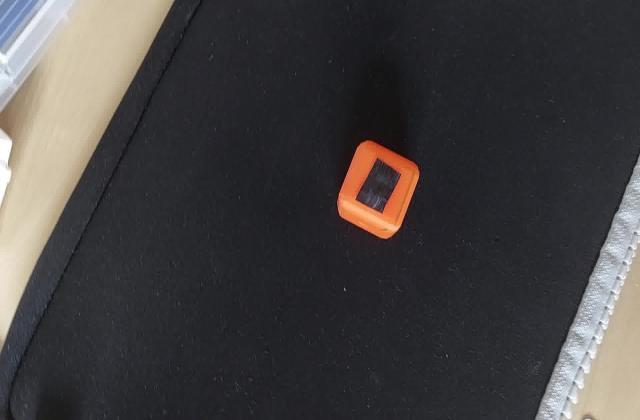black: (349, 158, 409, 214)
sticker: (334, 140, 422, 245)
